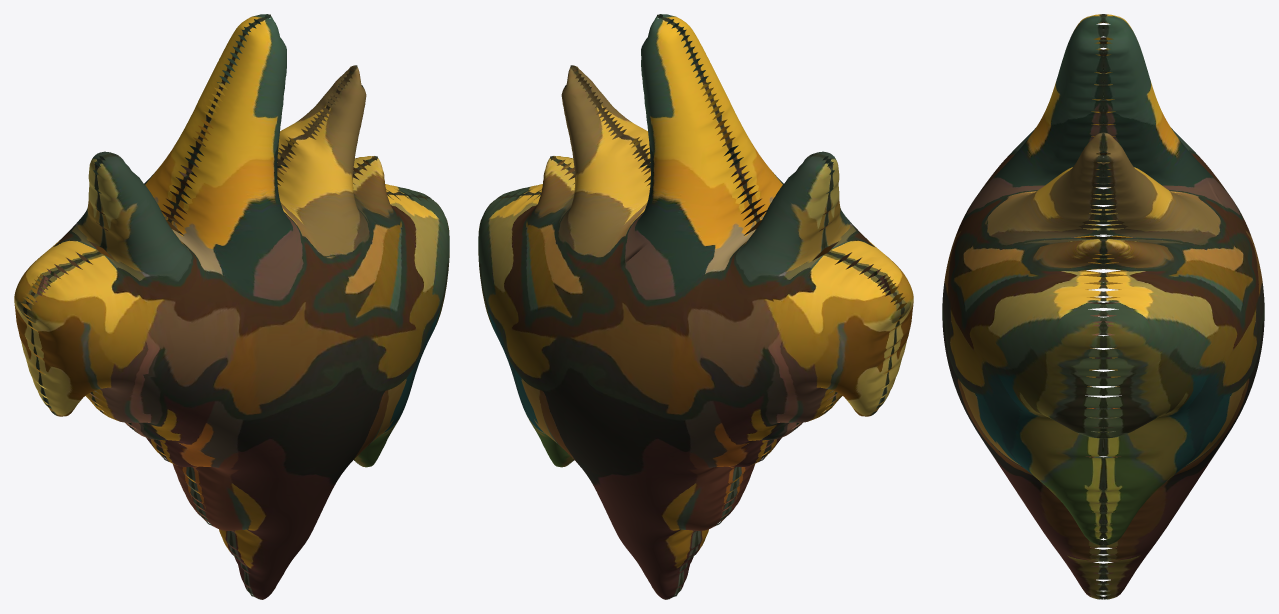
The model's file is spire_islet.glb.
The picture shows the model from 3 angles, left to right: view 1: azimuth 30°, elevation 25°; view 2: azimuth 150°, elevation 25°; view 3: azimuth 270°, elevation 25°; orthographic projection.
Parts seen in each view (by area): view 1: spire_islet; view 2: spire_islet; view 3: spire_islet.
Part boxes in pixels (x1,y1,x2,y2): spire_islet: (14, 14, 449, 599); spire_islet: (478, 14, 913, 599); spire_islet: (942, 14, 1264, 599).
Bounding box in the file's own units: 0.9851 × 1.33 × 0.6584.
1 material, 1 textured.
